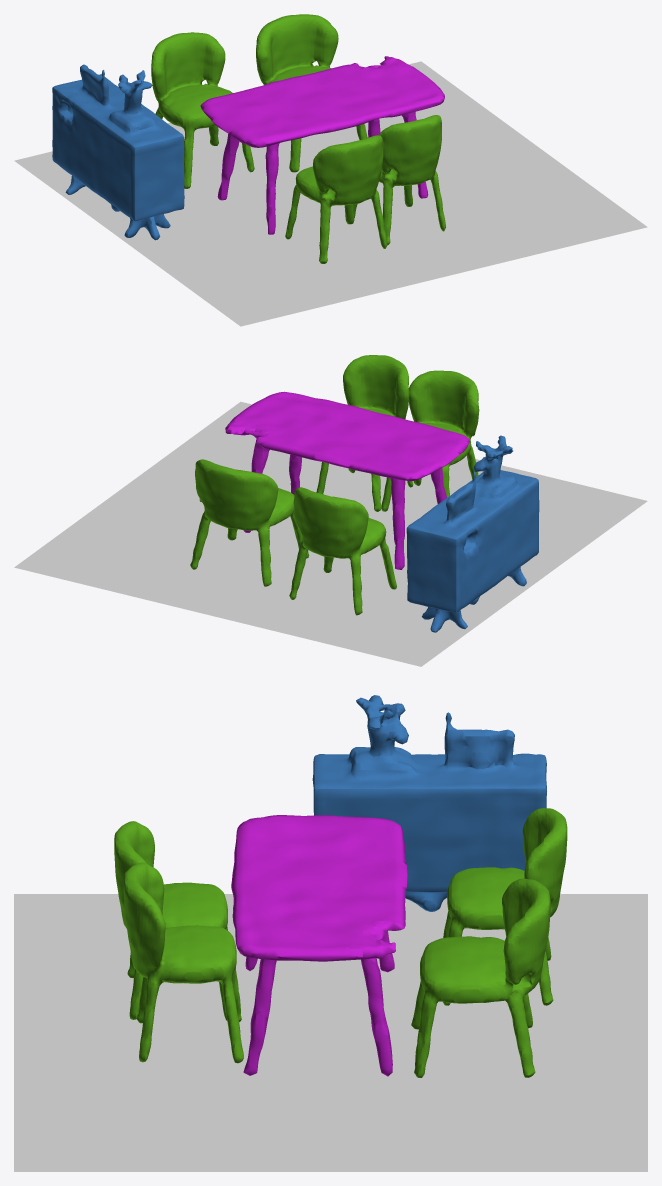
File: Diningroom.glb
The picture shows the model from 3 angles, top to bottom: view 1: azimuth 30°, elevation 25°; view 2: azimuth 150°, elevation 25°; view 3: azimuth 270°, elevation 25°; orthographic projection. The views are drawn at different scales.
Visible parts, largest first — view 1: world; view 2: world; view 3: world.
Part boxes in pixels (box(x1,y1,x2,y2)): world: box(14, 14, 647, 326); world: box(14, 355, 647, 666); world: box(14, 695, 647, 1171).
Size of the model in its own units: 3.1 by 1.1 by 2.99.
